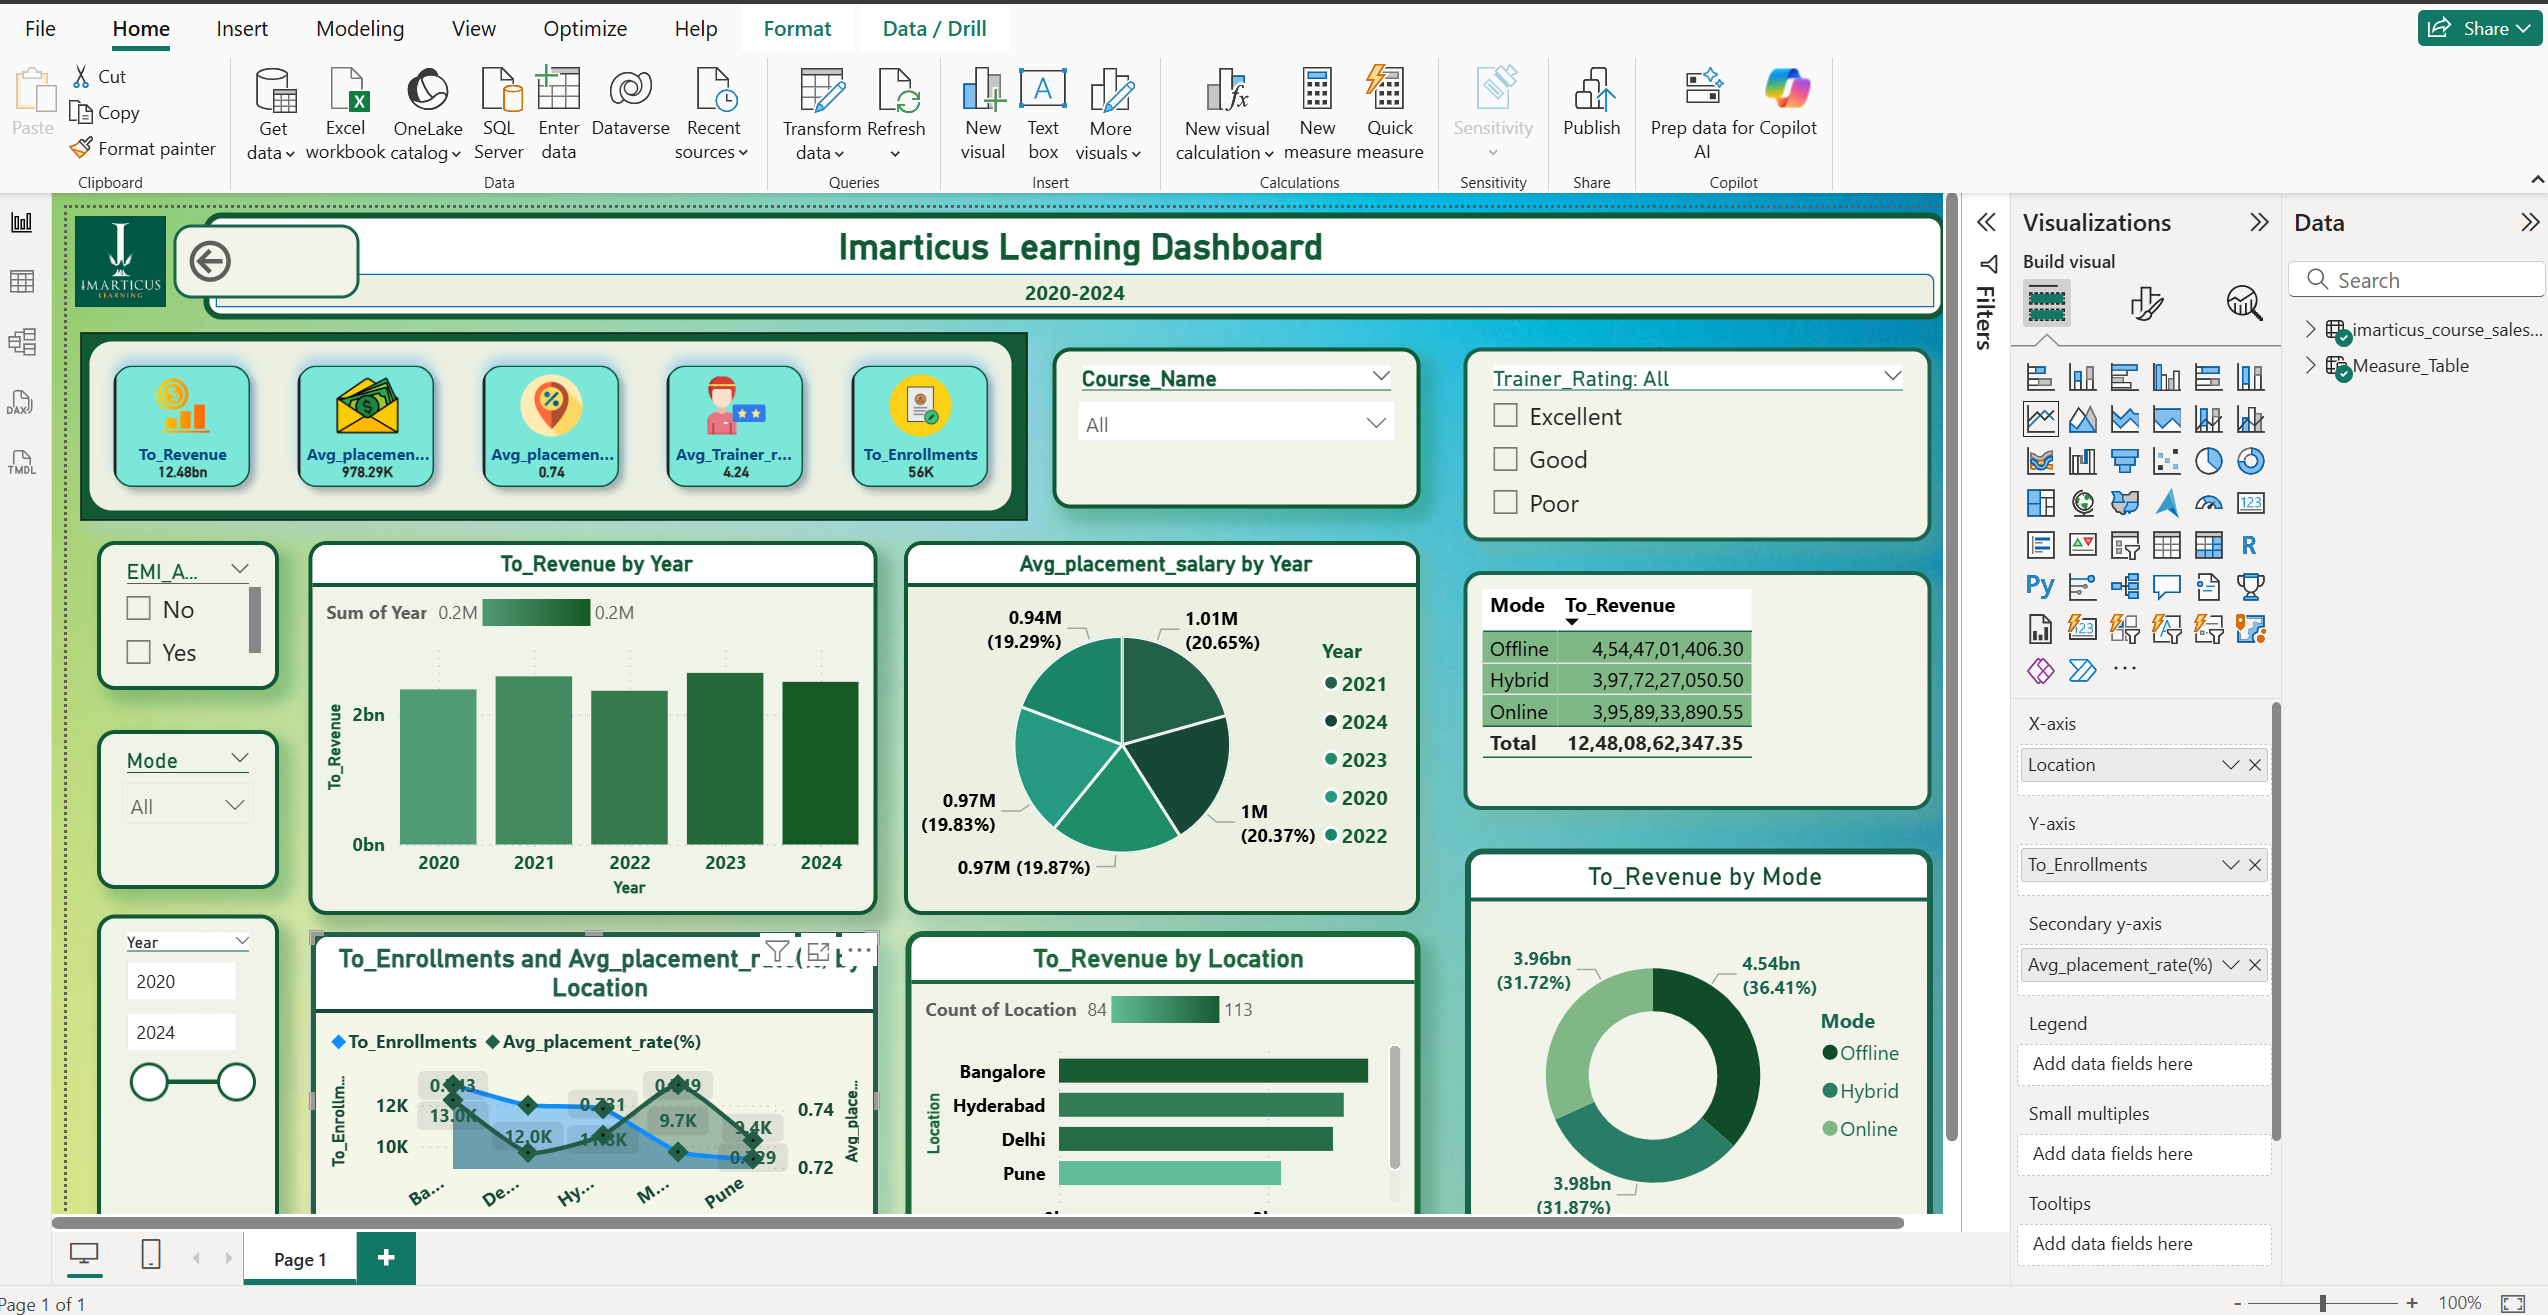

This screenshot's page, from the dashboard's own definition file:
{"tool":"powerbi","page":{"name":"Page 1","canvas":[1277,723],"ordinal":0},"visuals":[{"type":"cardVisual","title":"Key Highlights","fields":{"Data":["Measure_Table.total_revenue","Measure_Table.Avg_placement_salary","Measure_Table.Avg_placement_rate(%)","Measure_Table.Avg_Trainer_rating","Measure_Table.Total Enrollments"]},"box":[9.5,83.1,631,125.1],"z":0},{"type":"shape","title":"Imarticus Learning Dashboard","box":[91.1,3.3,1162.2,71.1],"z":1000},{"type":"image","box":[0,0,71,71],"z":2000},{"type":"columnChart","fields":{"Y":["Measure_Table.To_Revenue"],"Category":["imarticus_course_sales_2020_2024 (1).Year"]},"box":[161,222,379,249],"z":3000},{"type":"pieChart","fields":{"Category":["imarticus_course_sales_2020_2024 (1).Year"],"Y":["Measure_Table.Avg_placement_salary"]},"box":[558.4,221.9,343.9,249.2],"z":4000},{"type":"lineChart","fields":{"Y":["Measure_Table.To_Enrollments"],"Category":["imarticus_course_sales_2020_2024 (1).Location"],"Y2":["Measure_Table.Avg_placement_rate(%)"]},"box":[162,482,379,226],"z":5000},{"type":"clusteredBarChart","fields":{"Category":["imarticus_course_sales_2020_2024 (1).Location"],"Y":["Measure_Table.To_Revenue"]},"box":[558.9,482.2,343.3,226.7],"z":6000},{"type":"slicer","fields":{"Values":["imarticus_course_sales_2020_2024 (1).Course_Name"]},"box":[656.7,93.3,245.6,106.7],"z":7000},{"type":"slicer","fields":{"Values":["imarticus_course_sales_2020_2024 (1).Year"]},"box":[20,471.1,121.1,236.7],"z":8000},{"type":"slicer","fields":{"Values":["imarticus_course_sales_2020_2024 (1).Mode"]},"box":[20,347.8,121.1,106.7],"z":9000},{"type":"slicer","fields":{"Values":["imarticus_course_sales_2020_2024 (1).EMI_Available"]},"box":[20,222.2,121.1,98.9],"z":10000},{"type":"slicer","fields":{"Values":["imarticus_course_sales_2020_2024 (1).Trainer_Rating 2"]},"box":[931,93,312,129],"z":11000},{"type":"actionButton","box":[71.1,11.1,124.4,48.9],"z":12000},{"type":"tableEx","fields":{"Values":["imarticus_course_sales_2020_2024 (1).Mode","Measure_Table.To_Revenue"]},"box":[931.1,242.2,312.2,158.9],"z":13000},{"type":"donutChart","fields":{"Category":["imarticus_course_sales_2020_2024 (1).Mode"],"Y":["Measure_Table.To_Revenue"]},"box":[932.2,426.7,312.2,276.7],"z":14000}]}

Visuals, with their boxes on the page's 1277x723 design canvas (x1, y1, x2, y2). These are canvas units, not pixel positions in the 2548x1315 screenshot, which may show the page scaled, cropped or inside an application window:
"Key Highlights" cardVisual: 10,83,640,208
"Imarticus Learning Dashboard" shape: 91,3,1253,74
image: 0,0,71,71
columnChart - Measure_Table.To_Revenue x imarticus_course_sales_2020_2024 (1).Year: 161,222,540,471
pieChart - imarticus_course_sales_2020_2024 (1).Year x Measure_Table.Avg_placement_salary: 558,222,902,471
lineChart - Measure_Table.To_Enrollments x imarticus_course_sales_2020_2024 (1).Location: 162,482,541,708
clusteredBarChart - imarticus_course_sales_2020_2024 (1).Location x Measure_Table.To_Revenue: 559,482,902,709
slicer - imarticus_course_sales_2020_2024 (1).Course_Name: 657,93,902,200
slicer - imarticus_course_sales_2020_2024 (1).Year: 20,471,141,708
slicer - imarticus_course_sales_2020_2024 (1).Mode: 20,348,141,454
slicer - imarticus_course_sales_2020_2024 (1).EMI_Available: 20,222,141,321
slicer - imarticus_course_sales_2020_2024 (1).Trainer_Rating 2: 931,93,1243,222
actionButton: 71,11,196,60
tableEx - imarticus_course_sales_2020_2024 (1).Mode x Measure_Table.To_Revenue: 931,242,1243,401
donutChart - imarticus_course_sales_2020_2024 (1).Mode x Measure_Table.To_Revenue: 932,427,1244,703
